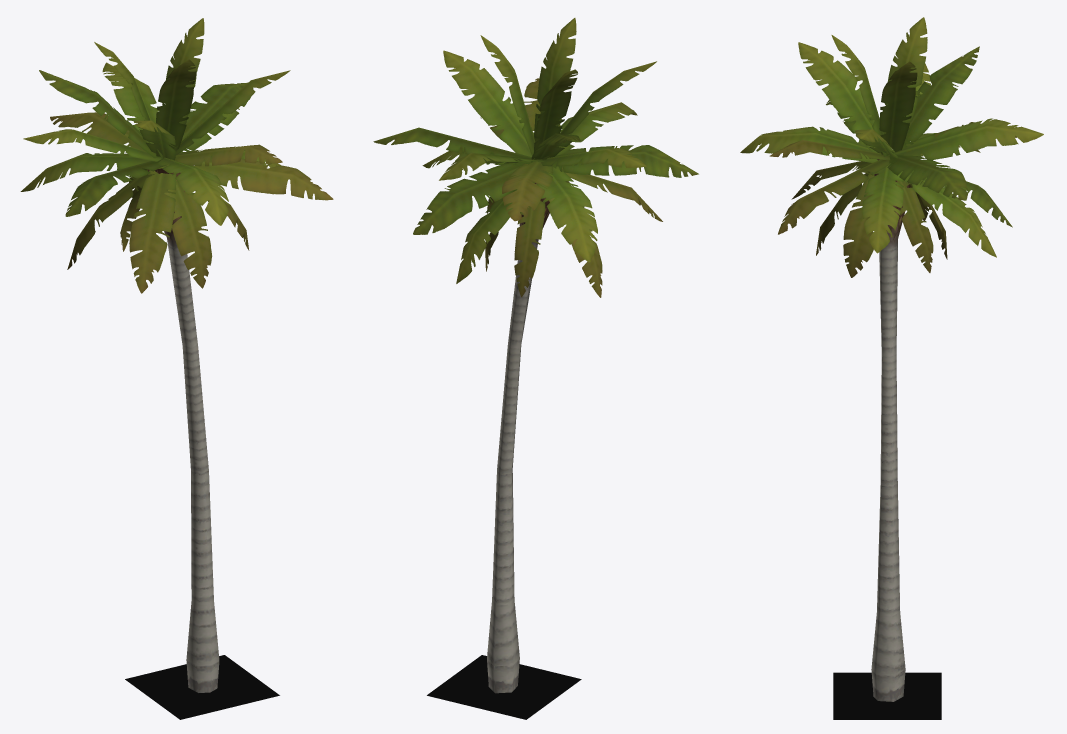
File: jj_tyshu10.FBX
3 renders of one model, left to right at view 1: azimuth 30°, elevation 25°; view 2: azimuth 150°, elevation 25°; view 3: azimuth 270°, elevation 25°, orthographic. The views are drawn at different scales.
Visible parts, largest first — view 1: jj_tyshu10, shadow; view 2: jj_tyshu10, shadow; view 3: jj_tyshu10, shadow.
Part boxes in pixels (box(x1,y1,x2,y2)): jj_tyshu10: box(20, 18, 333, 692); shadow: box(125, 655, 279, 719); jj_tyshu10: box(373, 18, 698, 693); shadow: box(427, 655, 581, 719); jj_tyshu10: box(740, 17, 1043, 701); shadow: box(833, 672, 941, 719).
Bounding box in the file's own units: 355 × 827 × 371.
Materials: 2 (2 with a texture image).
